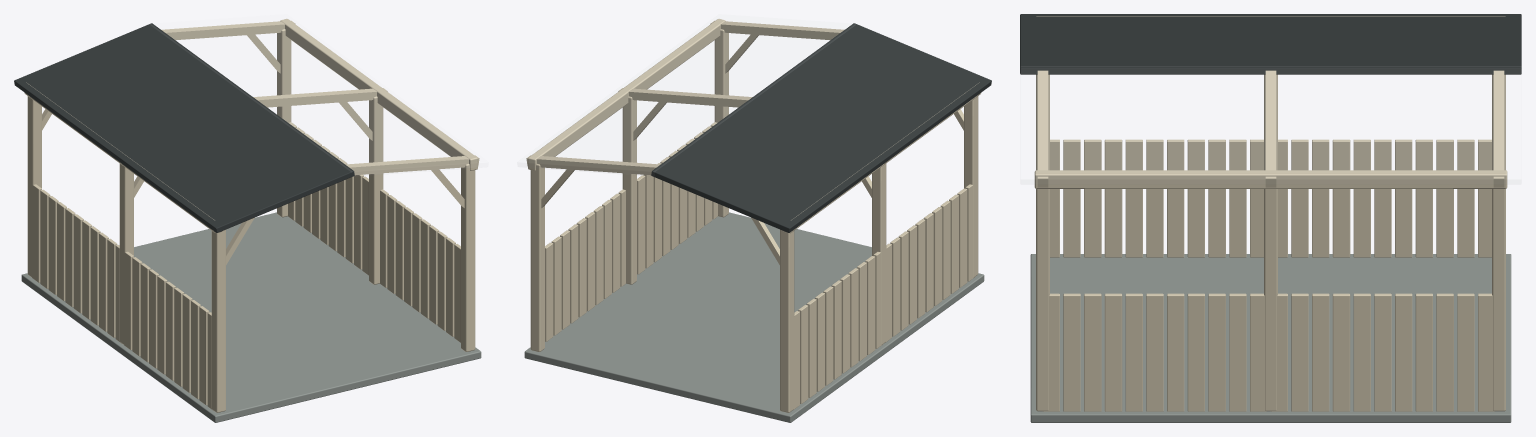
The model's file is canal-boats-and-lock-operations-canal-boats-and-lock-o-83386836__31616.glb.
3 renders of one model, left to right at view 1: azimuth 30°, elevation 25°; view 2: azimuth 150°, elevation 25°; view 3: azimuth 270°, elevation 25°, orthographic. The views are drawn at different scales.
Visible parts, largest first — view 1: canal-boats-and-lock-operations-covered-lock-maintenance-she (×3); view 2: canal-boats-and-lock-operations-covered-lock-maintenance-she (×3); view 3: canal-boats-and-lock-operations-covered-lock-maintenance-she (×3).
Boxes of the visible parts, box(x1,y1,x2,y2) form: canal-boats-and-lock-operations-covered-lock-maintenance-she (×3): box(14, 19, 481, 422); canal-boats-and-lock-operations-covered-lock-maintenance-she (×3): box(524, 19, 991, 422); canal-boats-and-lock-operations-covered-lock-maintenance-she (×3): box(1020, 14, 1521, 422).
Bounding box in the file's own units: 4.71 × 3.67 × 6.05.
